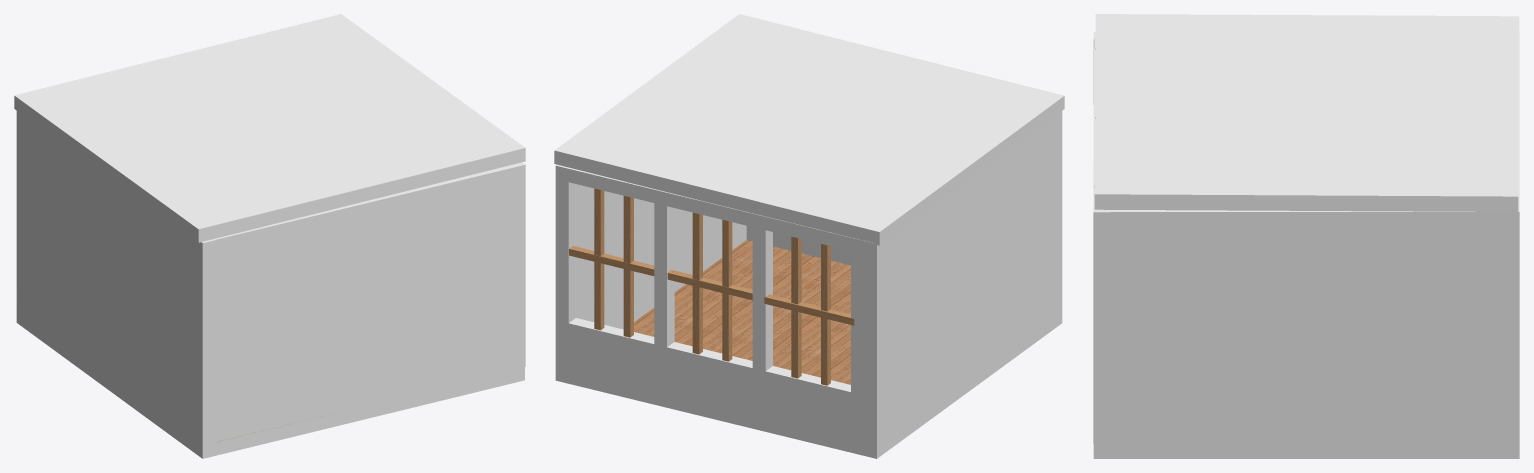
Rendered from room.glb.
3 views of the same model, side by side, from view 1: azimuth 30°, elevation 25°; view 2: azimuth 150°, elevation 25°; view 3: azimuth 270°, elevation 25° (orthographic). The views are drawn at different scales.
Visible parts, largest first — view 1: Wall_Left_lambert3_0.006, Wall_Left_lambert3_0.003, Wall_Left_lambert3_0.005, Floor_Tile_lambert3_0.001, Floor_Tile5_lambert3_0.001, Floor_Tile10_lambert3_0.001, Floor_Tile15_lambert3_0.001, Floor_Tile24_lambert3_0.001, Floor_Tile4_lambert3_0.001, Floor_Tile1_lambert3_0.001, Floor_Tile2_lambert3_0.001, Floor_Tile3_lambert3_0.001; view 2: Wall_Left_lambert3_0.006, Wall_Left_lambert3_0.005, Wall_Right_Base_lambert3_0.001, Wall_Left_lambert3_0.004, Wall_Right_Top_lambert3_0.001, Wall_Right_Pillar1_lambert3_0.001, Wall_Right_Pillar3_lambert3_0.001, Wall_Right_Pillar2_lambert3_0.001, Wall_Right_Pillar_lambert3_0.001, Floor_Tile12_lambert3_0.001, Floor_Tile4_lambert3_0.001, Floor_Tile18_lambert3_0.001 (+34 smaller); view 3: Wall_Left_lambert3_0.004, Wall_Left_lambert3_0.006, Wall_Left_lambert3_0.003, Floor_Tile21_lambert3_0.001, Floor_Tile22_lambert3_0.001, Floor_Tile23_lambert3_0.001, Floor_Tile24_lambert3_0.001, Floor_Tile20_lambert3_0.001.
Part boxes in pixels (x1,y1,x2,y2): Wall_Left_lambert3_0.006: [14, 14, 525, 242]; Wall_Left_lambert3_0.003: [202, 162, 525, 441]; Wall_Left_lambert3_0.005: [16, 111, 215, 445]; Floor_Tile_lambert3_0.001: [165, 419, 266, 458]; Floor_Tile5_lambert3_0.001: [267, 414, 331, 443]; Floor_Tile10_lambert3_0.001: [331, 398, 395, 427]; Floor_Tile15_lambert3_0.001: [396, 383, 460, 411]; Floor_Tile24_lambert3_0.001: [460, 367, 524, 395]; Floor_Tile4_lambert3_0.001: [16, 309, 53, 349]; Floor_Tile1_lambert3_0.001: [128, 391, 165, 431]; Floor_Tile2_lambert3_0.001: [91, 364, 128, 403]; Floor_Tile3_lambert3_0.001: [54, 337, 90, 376]; Wall_Left_lambert3_0.006: [554, 14, 1064, 245]; Wall_Left_lambert3_0.005: [864, 111, 1062, 445]; Wall_Right_Base_lambert3_0.001: [555, 318, 863, 442]; Wall_Left_lambert3_0.004: [576, 184, 746, 329]; Wall_Right_Top_lambert3_0.001: [555, 164, 863, 254]; Wall_Right_Pillar1_lambert3_0.001: [555, 179, 575, 323]; Wall_Right_Pillar3_lambert3_0.001: [654, 203, 674, 347]; Wall_Right_Pillar2_lambert3_0.001: [752, 227, 772, 371]; Wall_Right_Pillar_lambert3_0.001: [851, 251, 863, 395]; Floor_Tile12_lambert3_0.001: [773, 319, 850, 359]; Floor_Tile4_lambert3_0.001: [812, 418, 913, 458]; Floor_Tile18_lambert3_0.001: [703, 302, 791, 342]; Wall_Left_lambert3_0.004: [1093, 205, 1519, 443]; Wall_Left_lambert3_0.006: [1094, 14, 1519, 211]; Wall_Left_lambert3_0.003: [1093, 32, 1110, 443]; Floor_Tile21_lambert3_0.001: [1434, 443, 1519, 458]; Floor_Tile22_lambert3_0.001: [1349, 443, 1434, 458]; Floor_Tile23_lambert3_0.001: [1264, 443, 1349, 458]; Floor_Tile24_lambert3_0.001: [1093, 443, 1178, 458]; Floor_Tile20_lambert3_0.001: [1179, 443, 1263, 458].
Bounding box in the file's own units: 5.08 × 3.44 × 5.01.
Materials: 5 (5 with a texture image).
